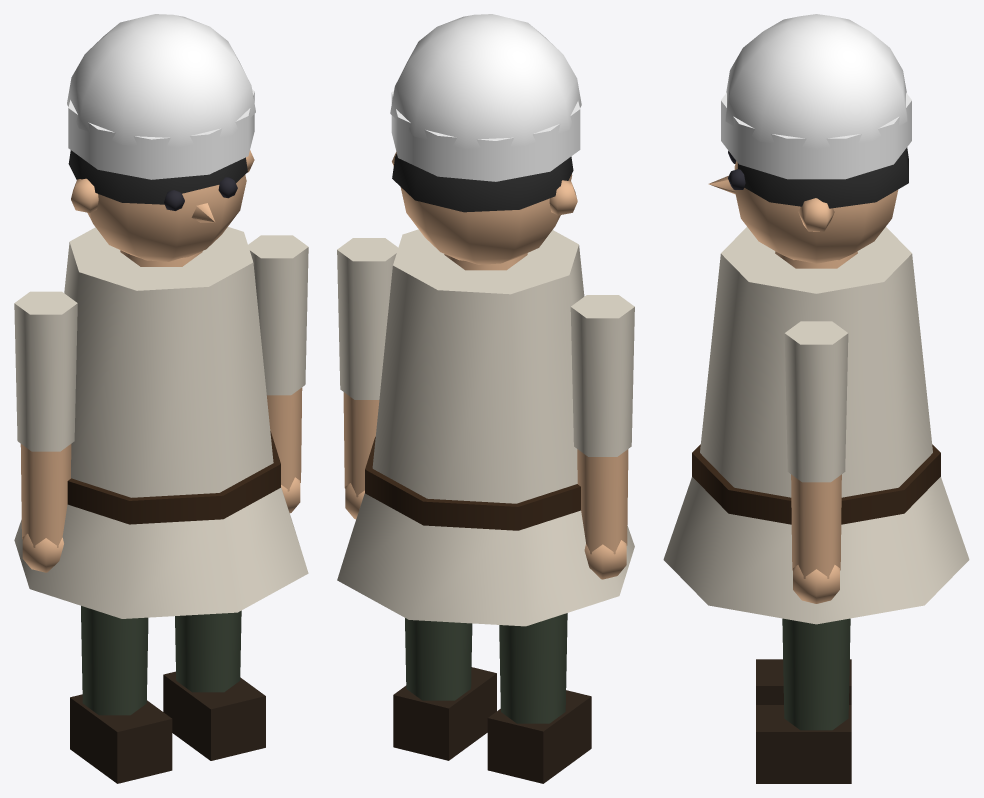
The model's file is w_muehle.glb.
3 views of the same model, side by side, from view 1: azimuth 30°, elevation 25°; view 2: azimuth 150°, elevation 25°; view 3: azimuth 270°, elevation 25° (orthographic).
Parts seen in each view (by area): view 1: worker, arm_l, leg_l, leg_r, arm_r; view 2: worker, arm_l, leg_l, leg_r, arm_r; view 3: worker, arm_r, leg_r, leg_l.
Part boxes in pixels (left/top/right/bottom): worker: left=14, top=14, right=308, bottom=618; arm_l: left=14, top=291, right=77, bottom=572; leg_l: left=70, top=606, right=172, bottom=783; leg_r: left=163, top=610, right=265, bottom=760; arm_r: left=248, top=235, right=308, bottom=513; worker: left=337, top=14, right=634, bottom=626; arm_l: left=570, top=295, right=634, bottom=579; leg_l: left=487, top=613, right=591, bottom=783; leg_r: left=393, top=618, right=496, bottom=760; arm_r: left=337, top=238, right=398, bottom=519; worker: left=663, top=14, right=969, bottom=624; arm_r: left=784, top=321, right=848, bottom=603; leg_r: left=756, top=618, right=851, bottom=783; leg_l: left=756, top=659, right=851, bottom=704.
Bounding box in the file's own units: 0.4053 × 1 × 0.384.
